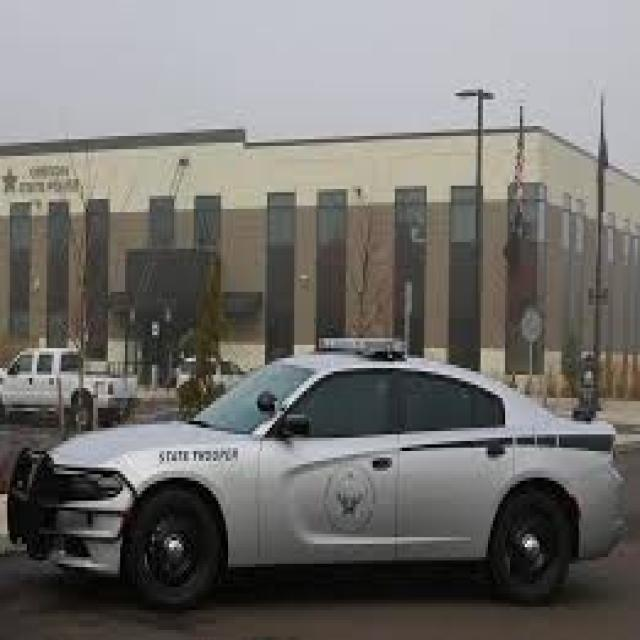cop: (0, 335, 625, 600)
